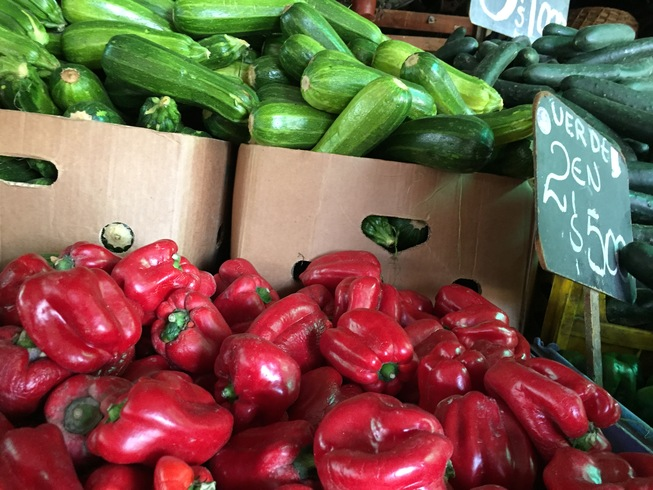precio: (526, 90, 644, 305), (469, 1, 574, 53)
